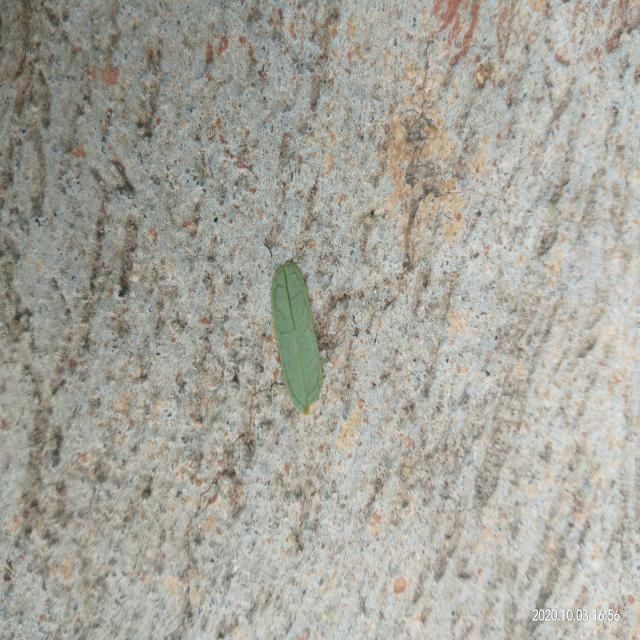tamarind: (271, 262, 324, 415)
